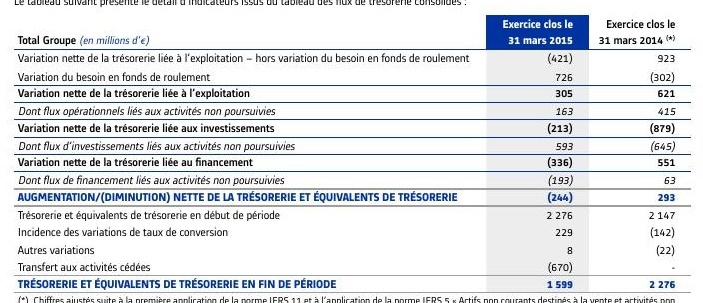table: (0, 0, 703, 303)
